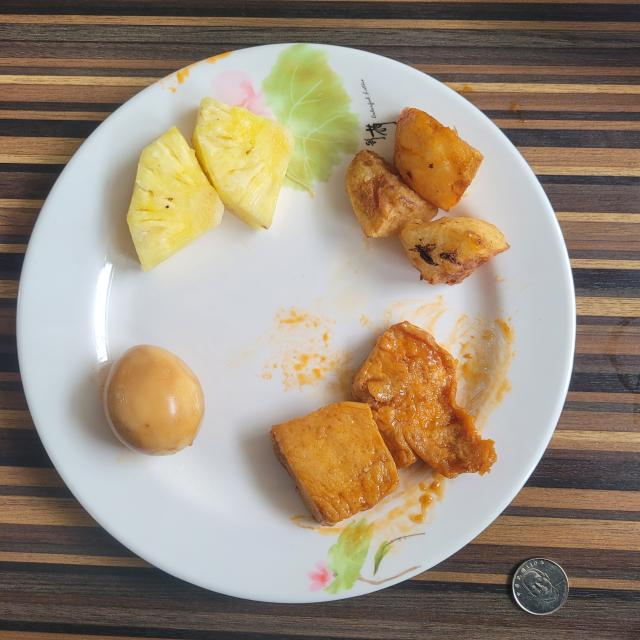coin: (512, 558, 569, 615)
creamy tofu: (270, 321, 496, 525)
fried potato: (345, 108, 509, 284)
pineapple: (128, 98, 295, 271)
soy egg: (104, 345, 205, 455)
